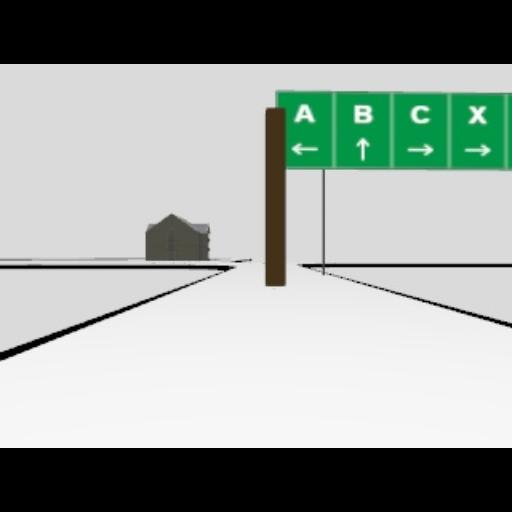A: (293, 102, 315, 122)
B: (352, 104, 372, 124)
C: (410, 104, 430, 124)
Left: (290, 142, 318, 156)
Right: (406, 143, 434, 157), (462, 144, 490, 156)
Straight: (355, 136, 369, 160)
X: (468, 104, 486, 124)
